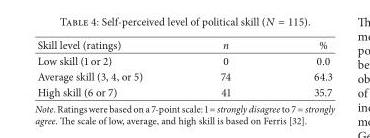table: (36, 36, 331, 99)
table column: (36, 36, 180, 99), (180, 36, 271, 99), (271, 36, 331, 99)
table column header: (36, 36, 331, 52)
table row: (36, 36, 331, 52), (36, 52, 331, 68), (36, 83, 331, 99), (36, 68, 331, 83)
